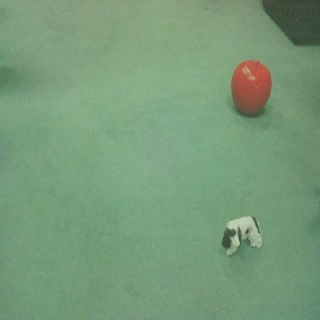apple: (224, 55, 279, 122)
dog: (216, 212, 267, 260)
